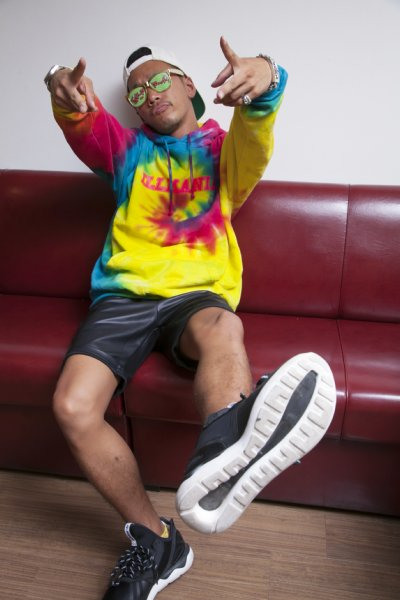face: (127, 60, 196, 135)
hand: (210, 36, 271, 107), (44, 58, 98, 114)
